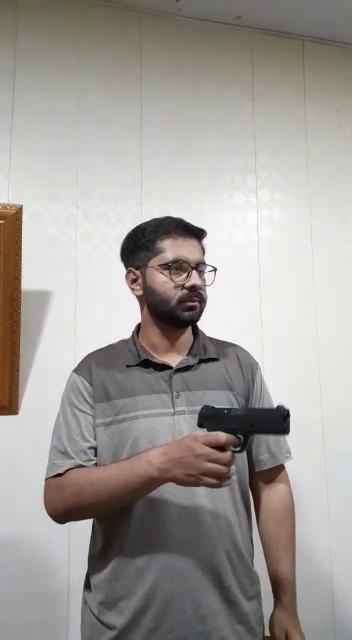criminal: (41, 212, 310, 640)
weapon: (193, 399, 295, 457)
